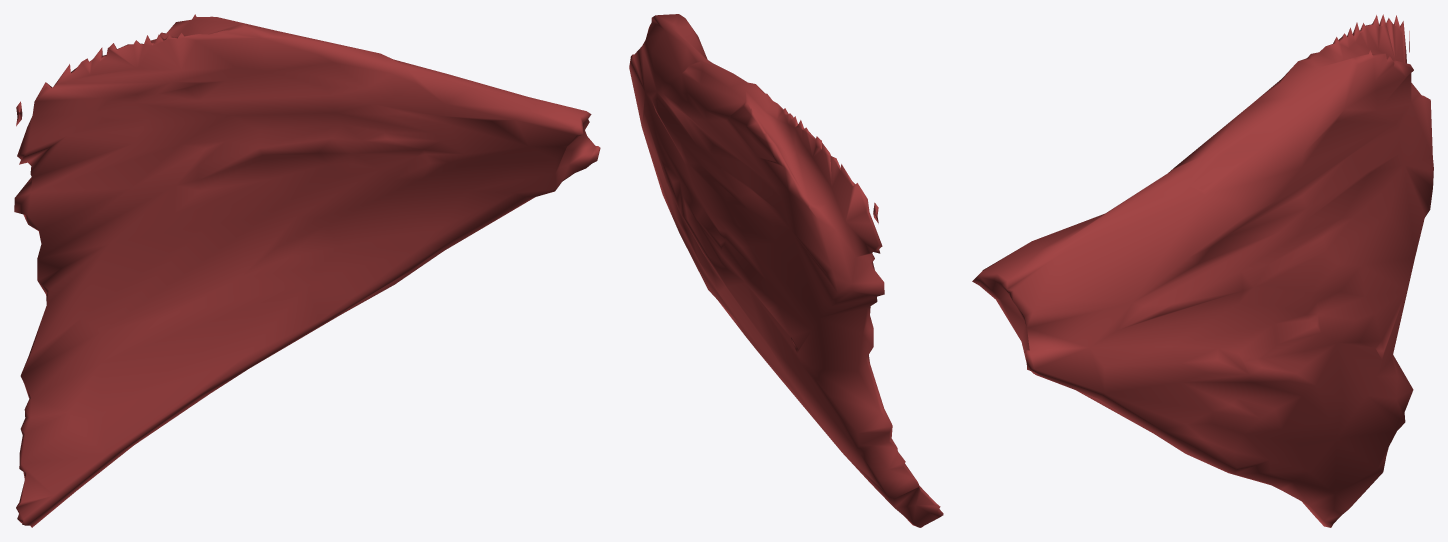
Rendered from coccygeus-muscle-l.glb.
The picture shows the model from 3 angles, left to right: view 1: azimuth 30°, elevation 25°; view 2: azimuth 150°, elevation 25°; view 3: azimuth 270°, elevation 25°; orthographic projection. The views are drawn at different scales.
Visible parts, largest first — view 1: Coccygeus muscle.l; view 2: Coccygeus muscle.l; view 3: Coccygeus muscle.l.
Part boxes in pixels (left/top/right/bottom): Coccygeus muscle.l: left=14, top=14, right=600, bottom=527; Coccygeus muscle.l: left=629, top=14, right=943, bottom=527; Coccygeus muscle.l: left=972, top=14, right=1433, bottom=527.
Bounding box in the file's own units: 0.0443 × 0.041 × 0.0289.
